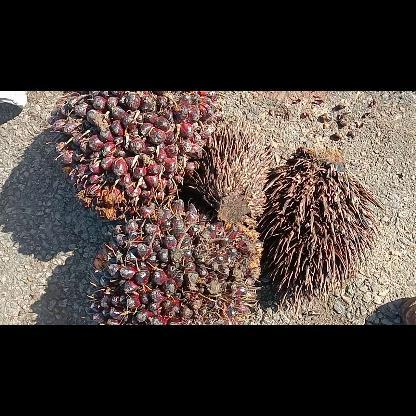Janjang kosong: (257, 147, 382, 319), (190, 118, 272, 226)
TBS mentah: (51, 90, 221, 222), (87, 198, 263, 324)
